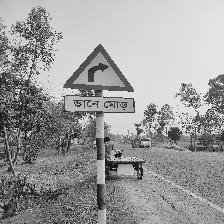Right-turn: (62, 45, 136, 114)
